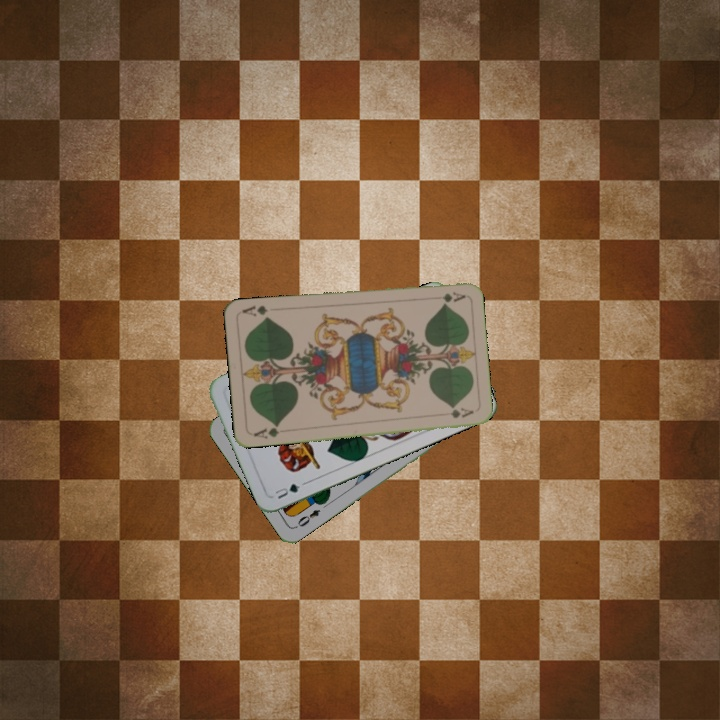EO: (291, 505, 323, 531)
GA: (250, 420, 289, 441), (426, 288, 467, 305)
GU: (271, 479, 303, 502)
